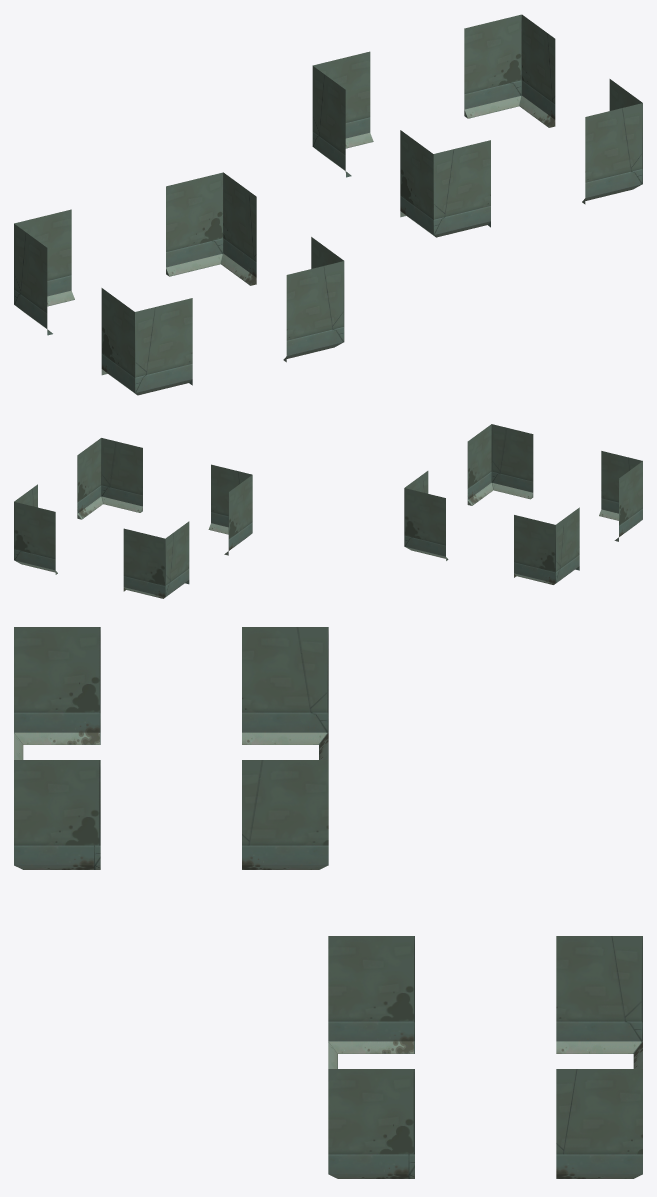
File: Combined_Mesh_root_scene__4_e0ea2853__zombies2_diffuse_01_1cd6861e_c1f257.obj
3 views of the same model, one above another, from view 1: azimuth 30°, elevation 25°; view 2: azimuth 150°, elevation 25°; view 3: azimuth 270°, elevation 25° (orthographic). The views are drawn at different scales.
Bounding box in the file's own units: 60.04 × 11 × 39.99.
2 materials, 2 textured.
